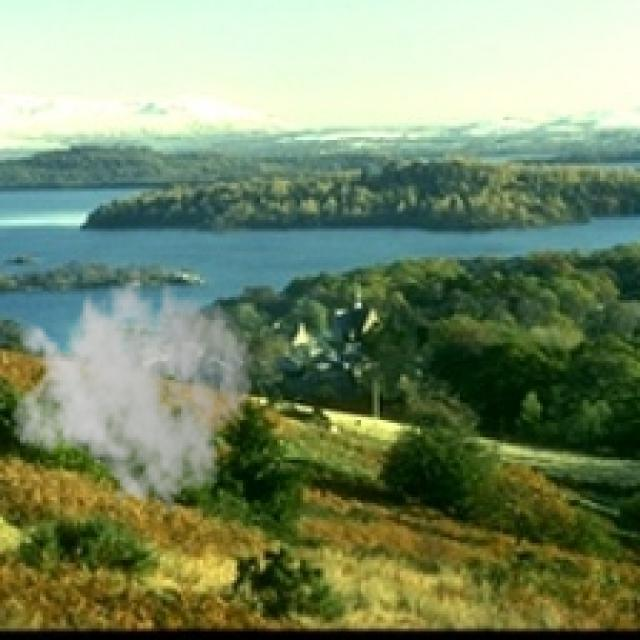Smoke: (8, 252, 255, 514)
